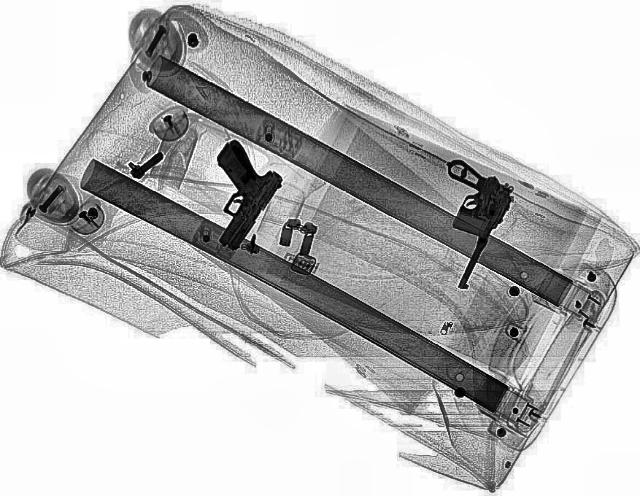Gun: (391, 154, 525, 290), (168, 137, 298, 253)
